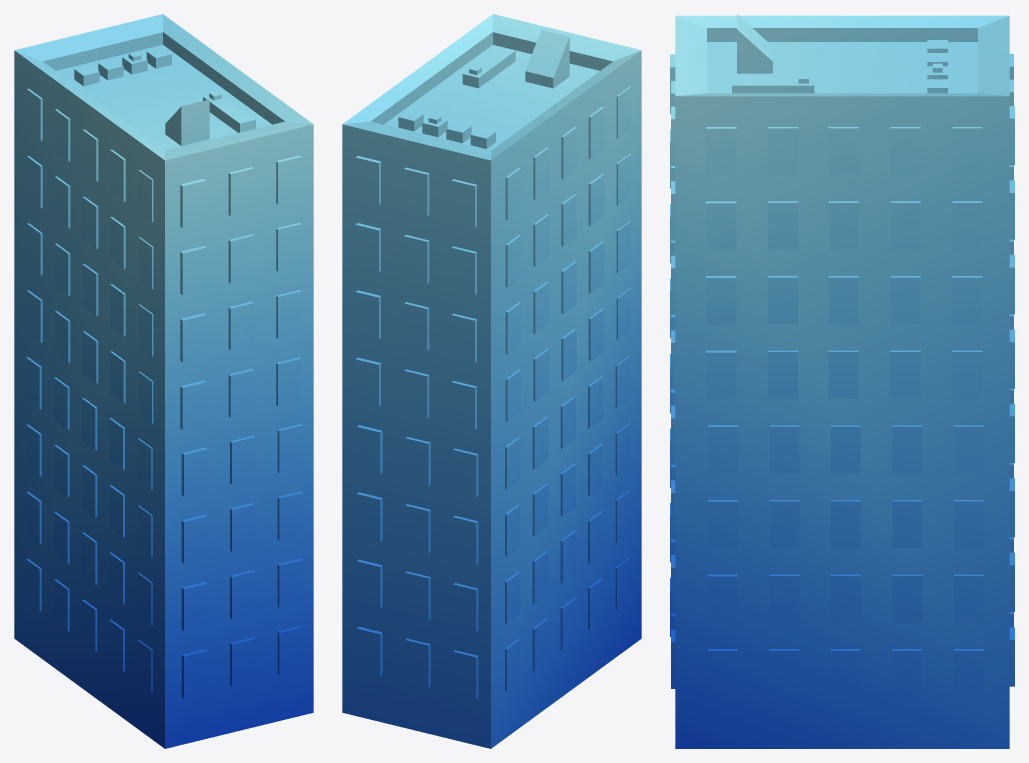
Rendered from build4.fbx.
The picture shows the model from 3 angles, left to right: view 1: azimuth 30°, elevation 25°; view 2: azimuth 150°, elevation 25°; view 3: azimuth 270°, elevation 25°; orthographic projection. The views are drawn at different scales.
Parts seen in each view (by area): view 1: model; view 2: model; view 3: model.
Boxes of the visible parts, x1,y1,x2,y2 form: model: (14,14,313,748); model: (342,14,641,748); model: (670,14,1014,748).
Bounding box in the file's own units: 38.33 × 146 × 67.
